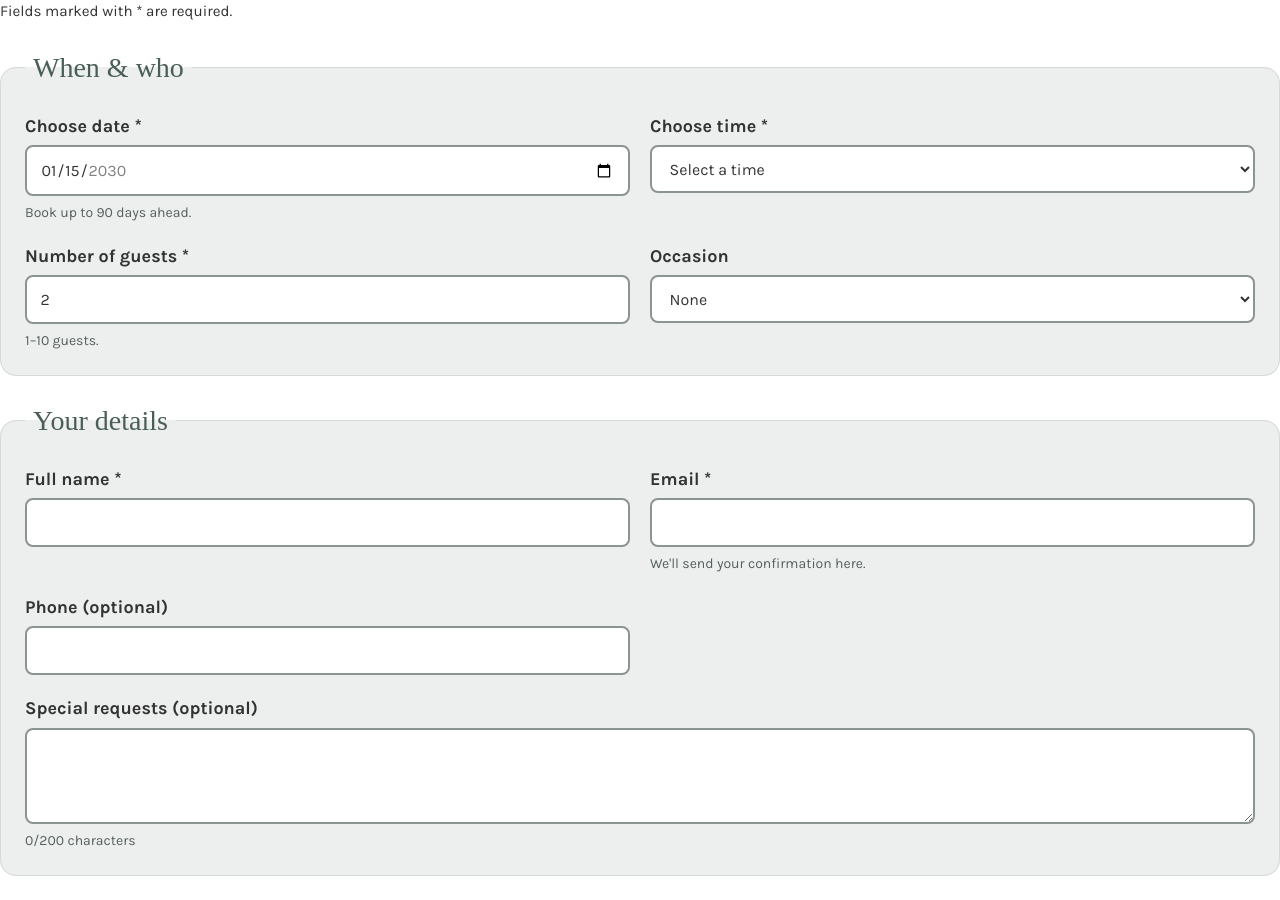
Test: BookingForm › shows a field error only after the field is touched
The width and height of the screenshot is (1280, 900).
Step 1. Type "not-an-email" into the field labelled "Email *" → (952, 523), box [650,498,1255,547]
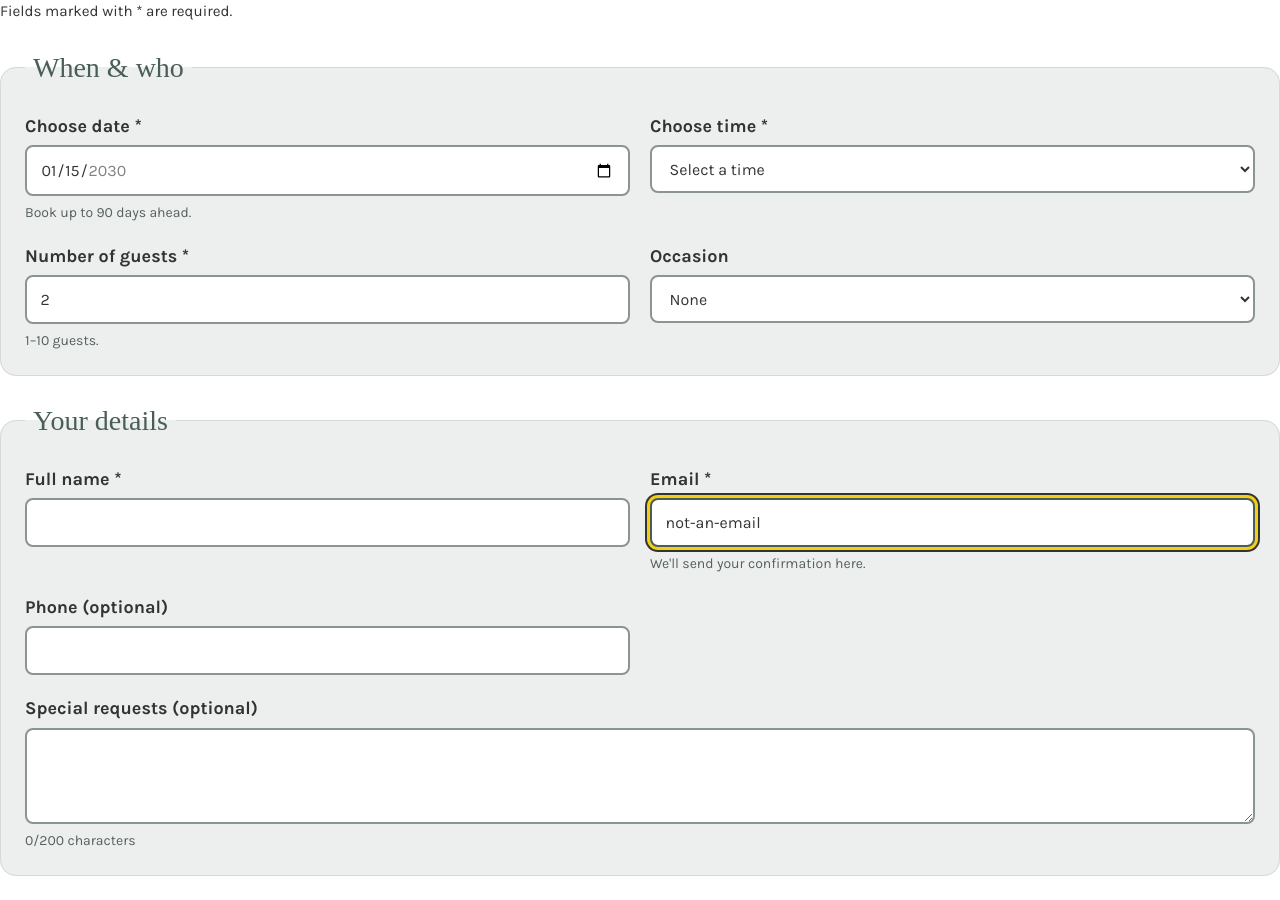
Expected: the text "valid email address" is not shown
Step 2. Press Tab
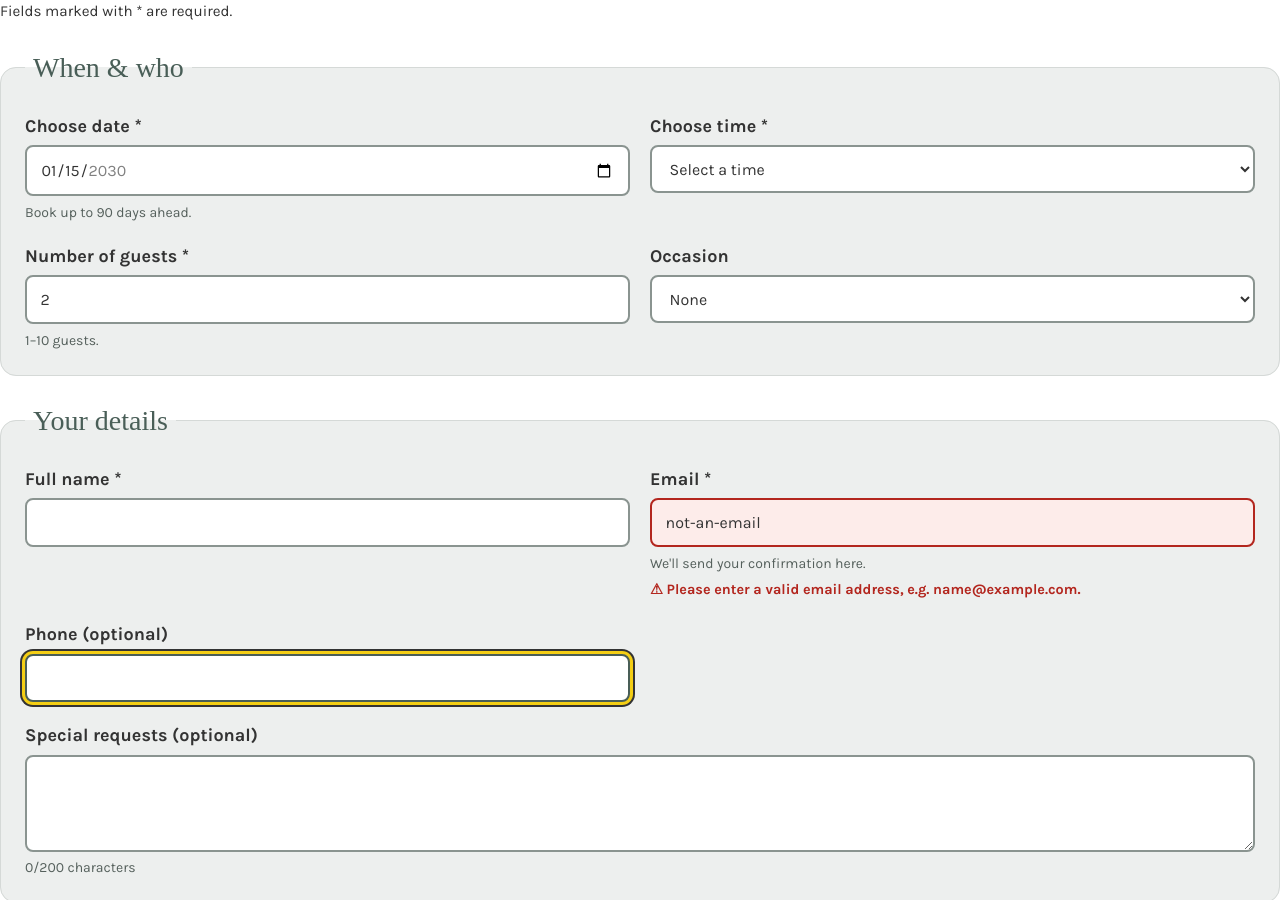
Expected: the text "Please enter a valid email address, e.g. name@example.com." is shown, [666,581,1080,598]
